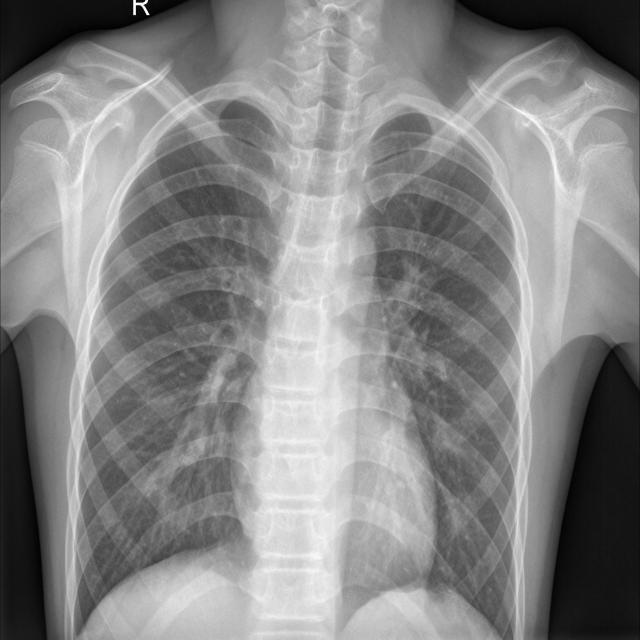no-pneumonia: (79, 101, 281, 622), (366, 114, 522, 639)
